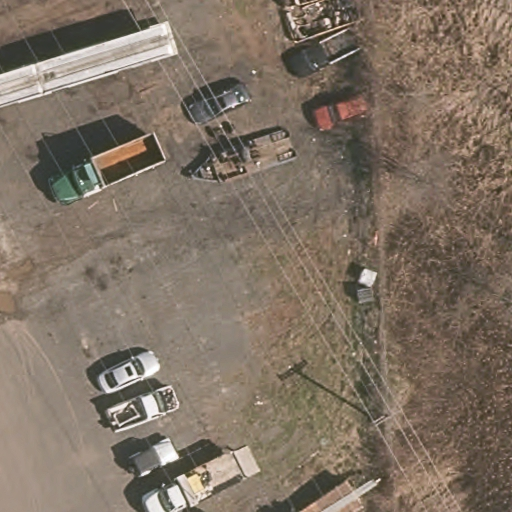DT: (364, 400, 404, 432)
